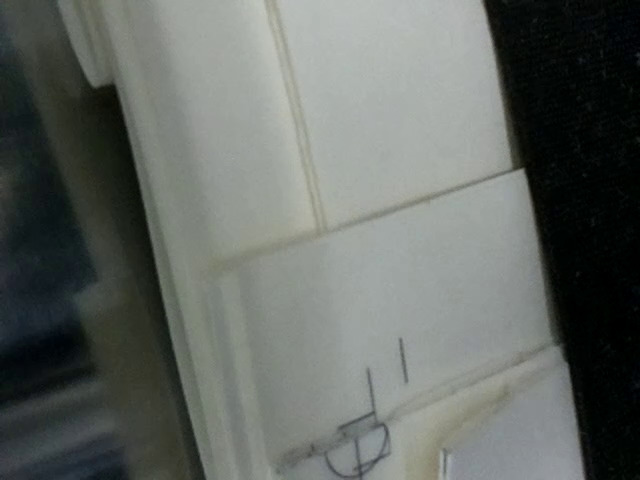misaligned: (272, 369, 396, 480)
